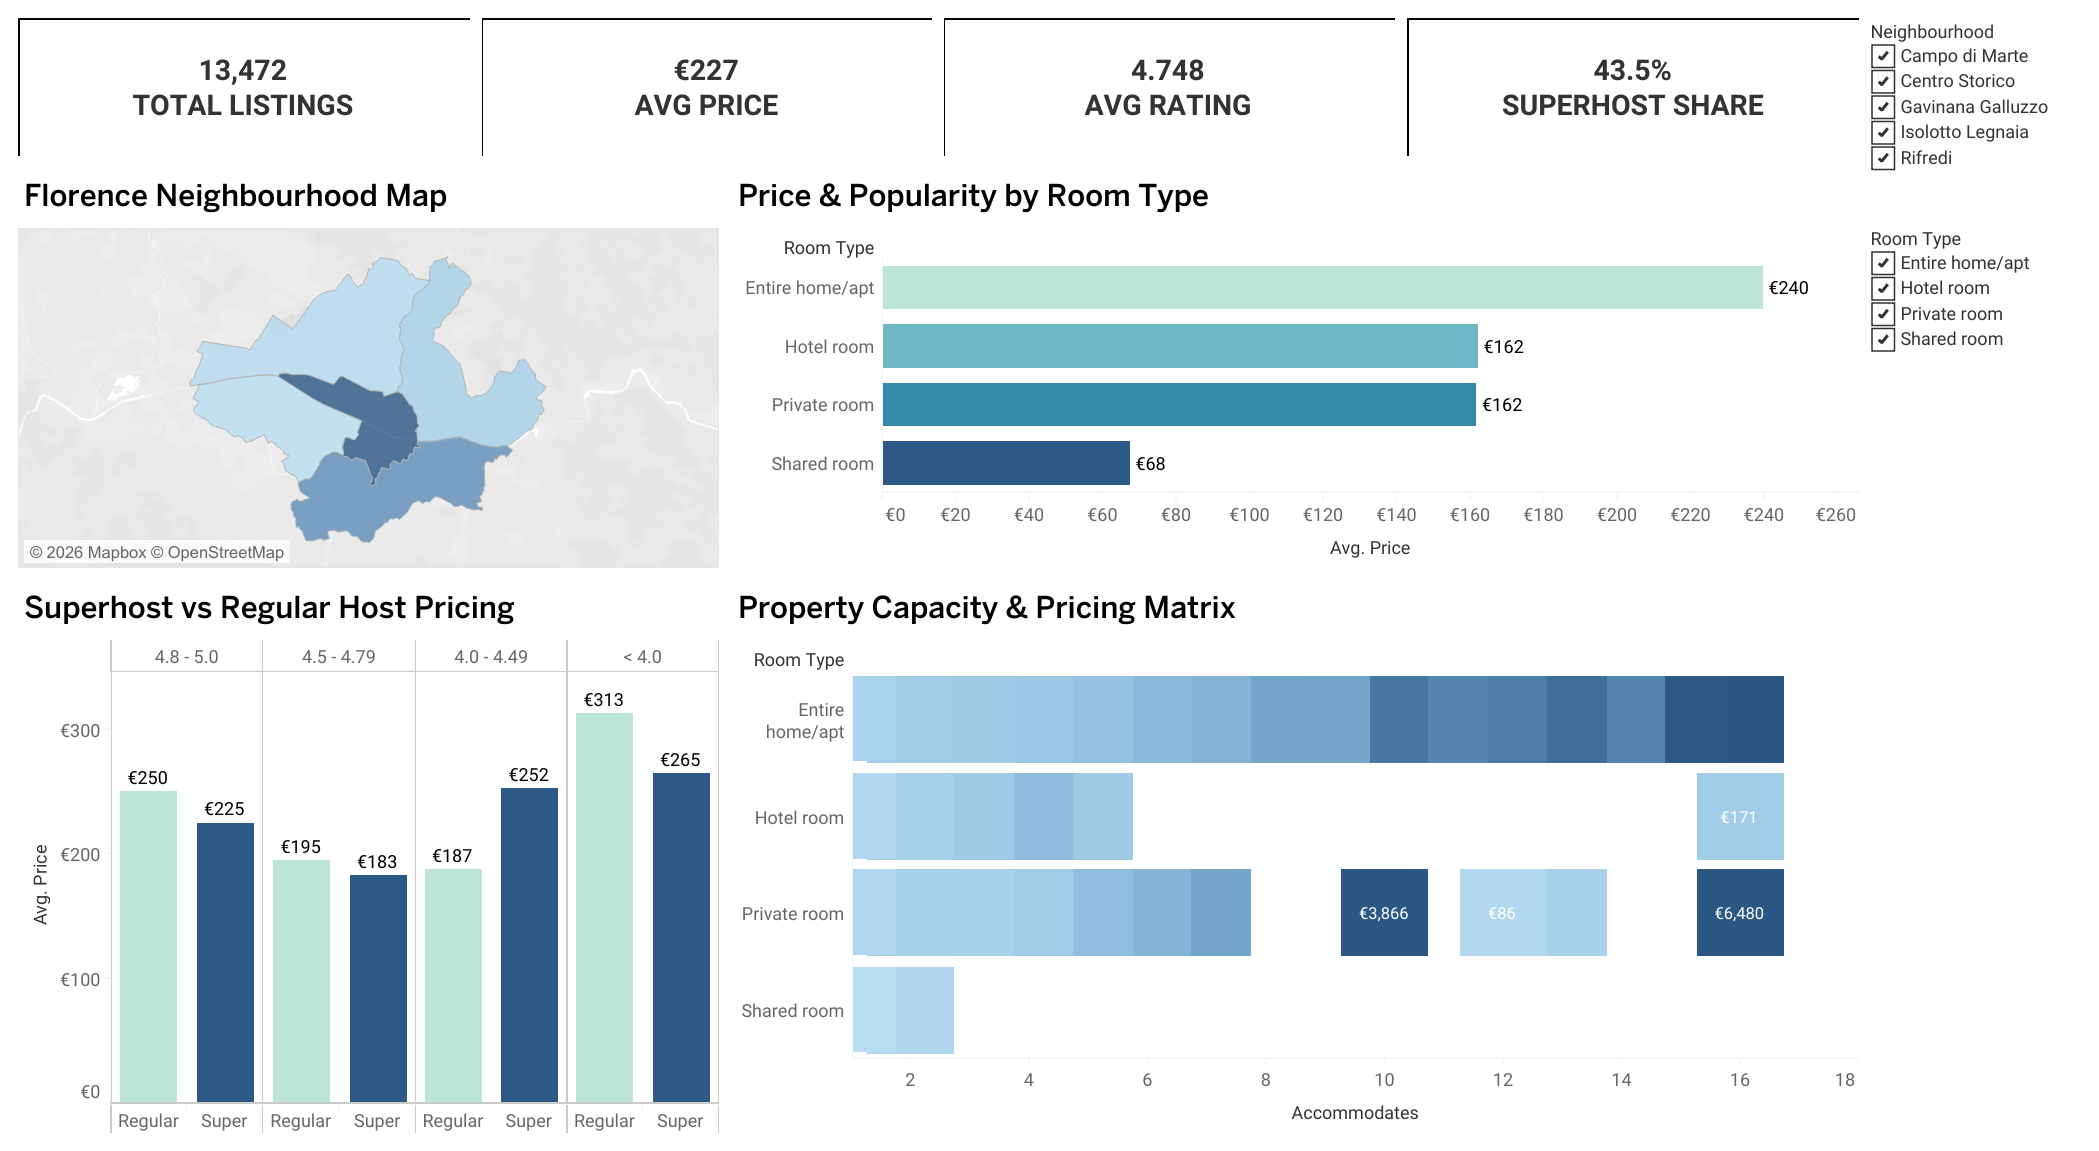

This screenshot's page, from the dashboard's own definition file:
{"tool":"tableau","page":{"name":"Florence Airbnb Market","canvas":[1400,768],"ordinal":0},"visuals":[{"type":"worksheet","title":"Sheet 5","mark":"Automatic","box":[8,8,310,100.2]},{"type":"worksheet","title":"Sheet 6","mark":"Automatic","box":[318,8,310,100.2]},{"type":"worksheet","title":"Sheet 7","mark":"Automatic","box":[628,8,310,100.2]},{"type":"worksheet","title":"Sheet 8","mark":"Automatic","box":[938,8,310,100.2]},{"type":"filter","title":"Sheet 1","param":"[federated.0hnxbff0btz33f18rd2191hh527n].[none:neighbourhood_cleansed:nk]","box":[1248,8,144,201]},{"type":"worksheet","title":"Sheet 1","mark":"Automatic","box":[8,108.2,478.3,275.2]},{"type":"worksheet","title":"Sheet 2","mark":"Automatic","rows":["room_type"],"cols":["price"],"box":[486.3,108.2,761.7,275.2]},{"type":"filter","title":"Sheet 4","param":"[federated.0hnxbff0btz33f18rd2191hh527n].[none:room_type:nk]","box":[1248,209,144,174]},{"type":"filter","title":"Sheet 4","param":"[federated.0hnxbff0btz33f18rd2191hh527n].[avg:price:qk]","box":[1248,383,144,76]},{"type":"worksheet","title":"Sheet 3","mark":"Bar","rows":["price"],"cols":["Calculation_0618236357283842","host_is_superhost"],"box":[8,383.4,478.3,376.6]},{"type":"worksheet","title":"Sheet 4","mark":"Square","rows":["room_type"],"cols":["accommodates"],"box":[486.3,383.4,761.7,376.6]}]}

Visuals, with their boxes in screenshot pixels (x1, y1, x2, y2), scaled from the page's 1400x768 canvas onto the 2099x1151 screenshot:
"Sheet 5" worksheet: crop(12, 12, 477, 162)
"Sheet 6" worksheet: crop(477, 12, 942, 162)
"Sheet 7" worksheet: crop(942, 12, 1406, 162)
"Sheet 8" worksheet: crop(1406, 12, 1871, 162)
"Sheet 1" filter: crop(1871, 12, 2087, 313)
"Sheet 1" worksheet: crop(12, 162, 729, 575)
"Sheet 2" worksheet: crop(729, 162, 1871, 575)
"Sheet 4" filter: crop(1871, 313, 2087, 574)
"Sheet 4" filter: crop(1871, 574, 2087, 688)
"Sheet 3" worksheet (Bar marks): crop(12, 575, 729, 1139)
"Sheet 4" worksheet (Square marks): crop(729, 575, 1871, 1139)
